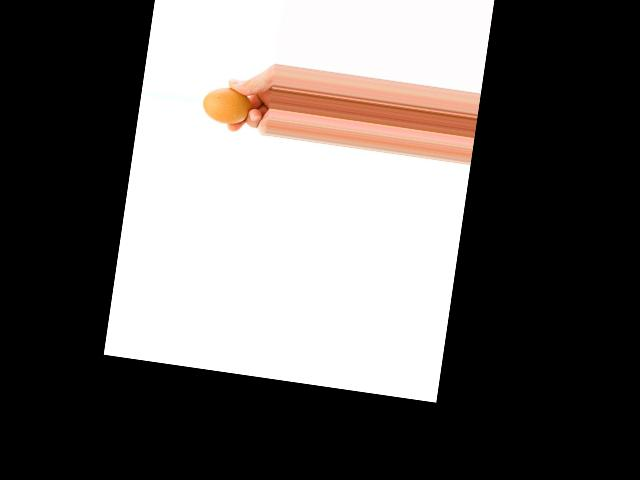egg: (200, 84, 252, 127)
